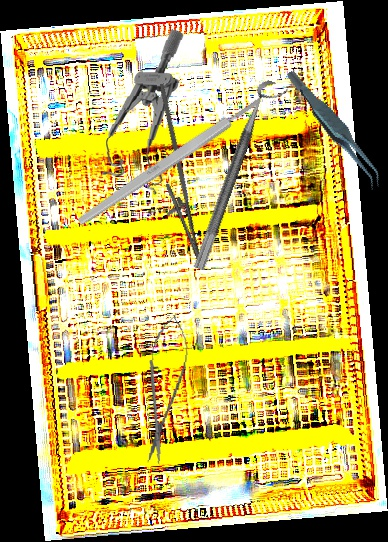Fixation Ring: (192, 77, 289, 277)
Micro Scissor: (134, 312, 194, 467)
Needle Holder: (124, 83, 224, 267)
Scalpel Handle: (75, 95, 264, 228)
Speculum: (99, 24, 185, 197)
Tissue Forceps: (285, 56, 385, 202)
